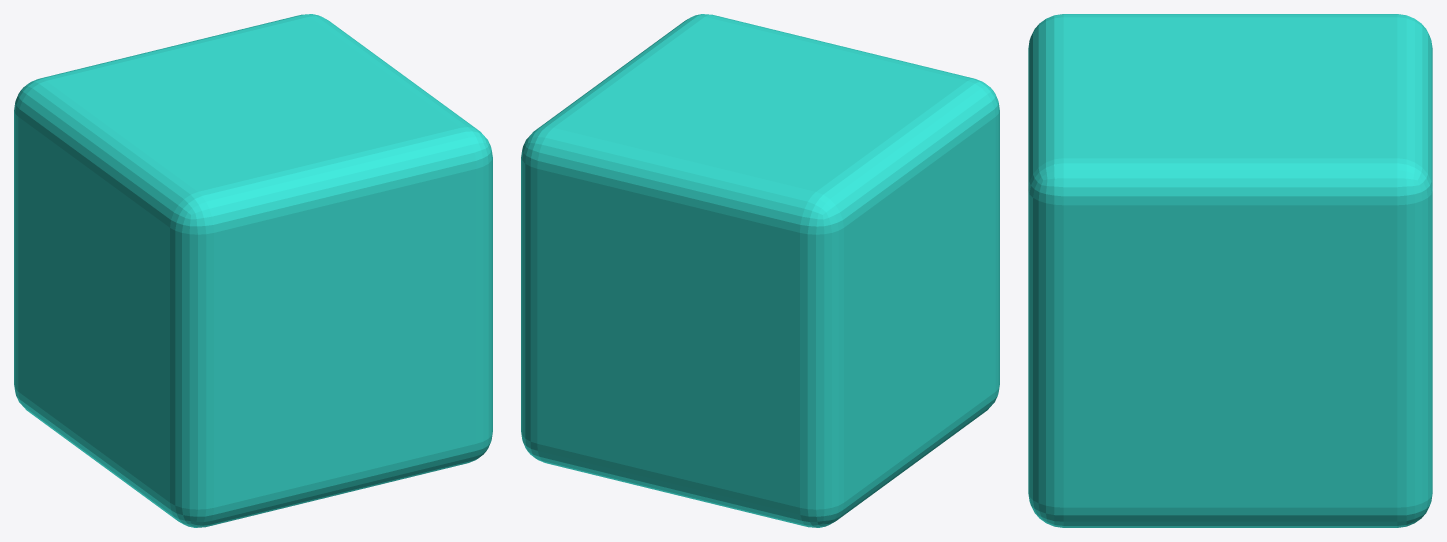
File: Rounded_box_asset (1).fbx
The picture shows the model from 3 angles, left to right: view 1: azimuth 30°, elevation 25°; view 2: azimuth 150°, elevation 25°; view 3: azimuth 270°, elevation 25°; orthographic projection. The views are drawn at different scales.
Parts seen in each view (by area): view 1: Cube; view 2: Cube; view 3: Cube.
Part boxes in pixels (left/top/right/bottom): Cube: left=14, top=14, right=492, bottom=527; Cube: left=521, top=14, right=999, bottom=527; Cube: left=1028, top=14, right=1432, bottom=527.
Bounding box in the file's own units: 200 × 200 × 200.
